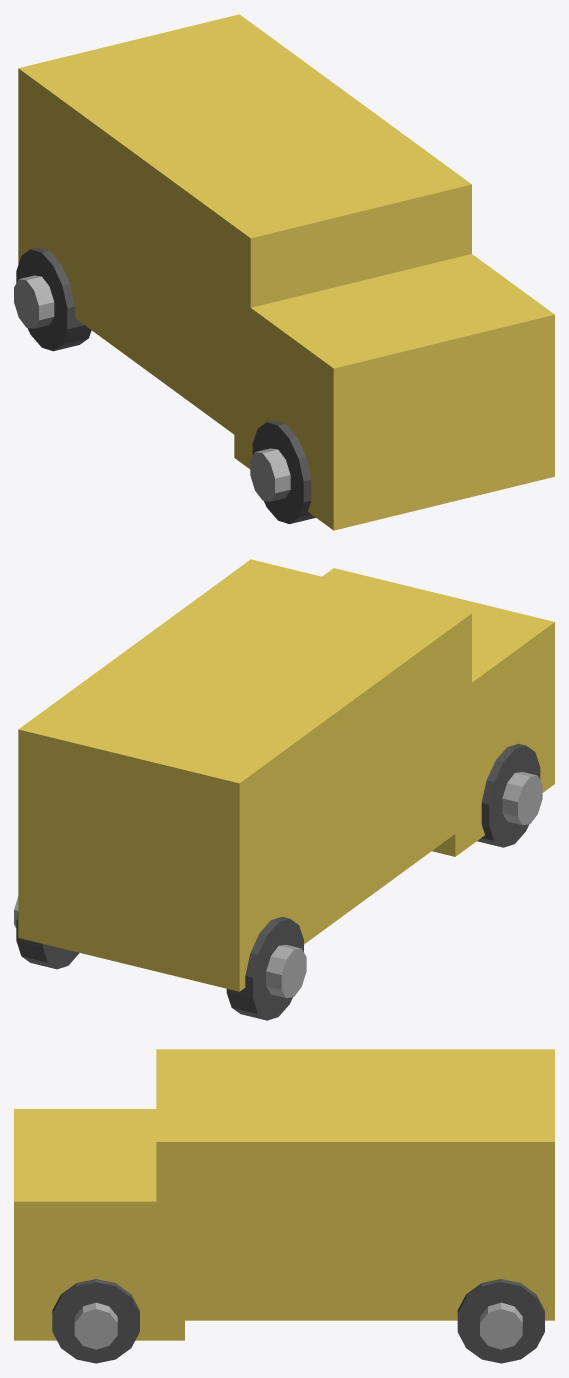
Rendered from step_van.glb.
The picture shows the model from 3 angles, top to bottom: view 1: azimuth 30°, elevation 25°; view 2: azimuth 150°, elevation 25°; view 3: azimuth 270°, elevation 25°; orthographic projection. The views are drawn at different scales.
Visible parts, largest first — view 1: cargo, cab, wheel_rr, wheel_fr, hub_-1_1, hub_-1_-1; view 2: cargo, cab, wheel_rr, wheel_fr, hub_-1_1, hub_-1_-1, wheel_rl; view 3: cargo, cab, wheel_fl, wheel_rl, hub_1_1, hub_1_-1.
Part boxes in pixels (x1,y1,x2,y2): cargo: [18, 14, 471, 445]; cab: [234, 254, 554, 530]; wheel_rr: [16, 247, 91, 351]; wheel_fr: [252, 420, 315, 524]; hub_-1_1: [250, 448, 290, 501]; hub_-1_-1: [14, 275, 54, 328]; cargo: [18, 559, 471, 991]; cab: [322, 568, 554, 856]; wheel_rr: [226, 916, 303, 1020]; wheel_fr: [477, 743, 540, 847]; hub_-1_1: [502, 772, 542, 825]; hub_-1_-1: [266, 945, 306, 998]; wheel_rl: [16, 912, 79, 969]; cargo: [156, 1049, 554, 1320]; cab: [14, 1109, 184, 1340]; wheel_fl: [52, 1279, 139, 1363]; wheel_rl: [457, 1279, 544, 1363]; hub_1_1: [74, 1302, 117, 1349]; hub_1_-1: [480, 1302, 522, 1349].
Size of the model in its own units: 2.42 by 2.2 by 4.94.
